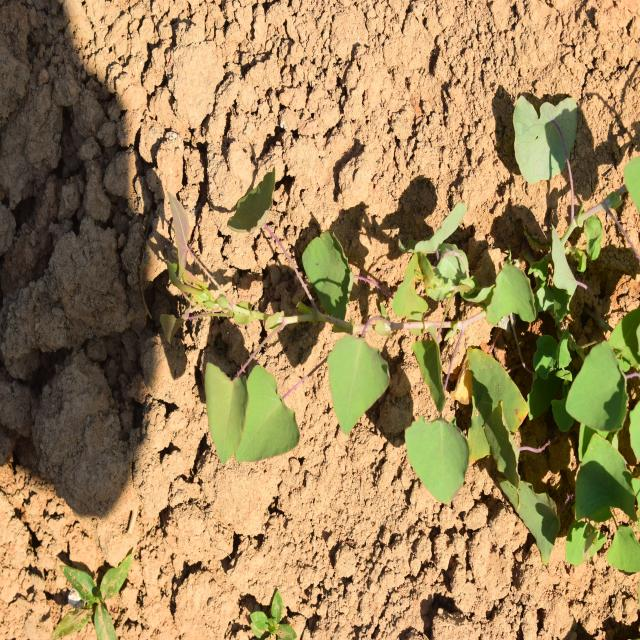Asiatic_Smartweed: (159, 175, 318, 474), (312, 227, 479, 479)
